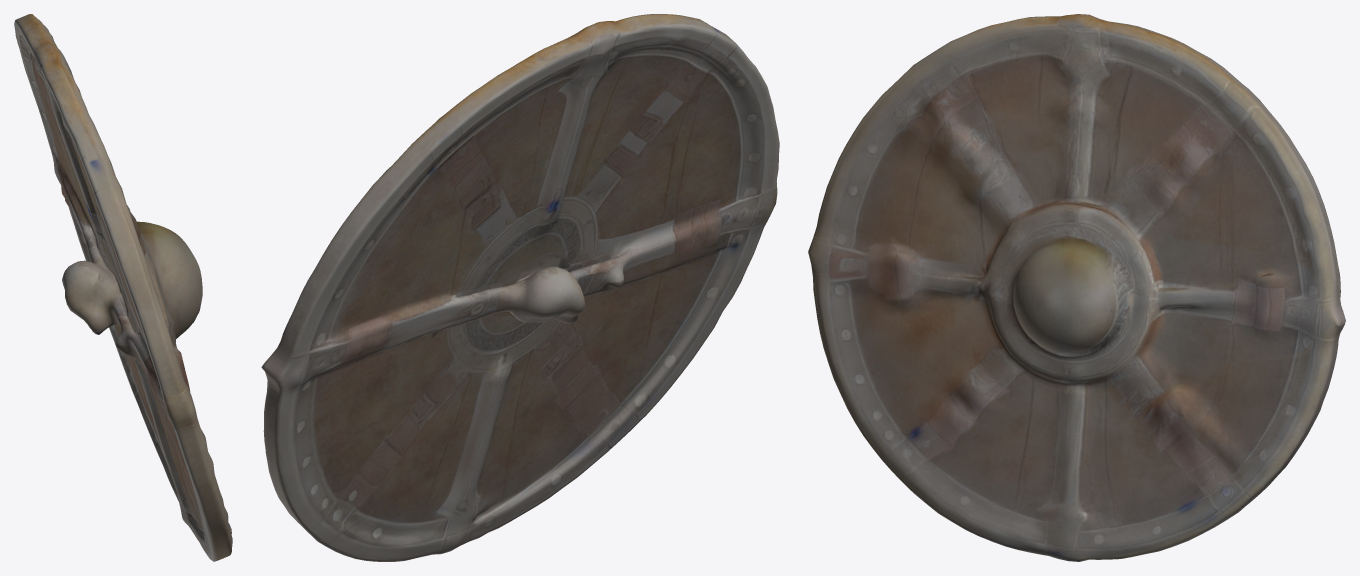
Rendered from Bronze Shield.glb.
The picture shows the model from 3 angles, left to right: view 1: azimuth 30°, elevation 25°; view 2: azimuth 150°, elevation 25°; view 3: azimuth 270°, elevation 25°; orthographic projection. The views are drawn at different scales.
Parts seen in each view (by area): view 1: file1; view 2: file1; view 3: file1.
Part boxes in pixels (box(x1,y1,x2,y2)): file1: box(14, 14, 232, 561); file1: box(261, 14, 779, 561); file1: box(808, 14, 1345, 561).
Size of the model in its own units: 0.9074 by 1.97 by 1.99.
Materials: 1 (1 with a texture image).
